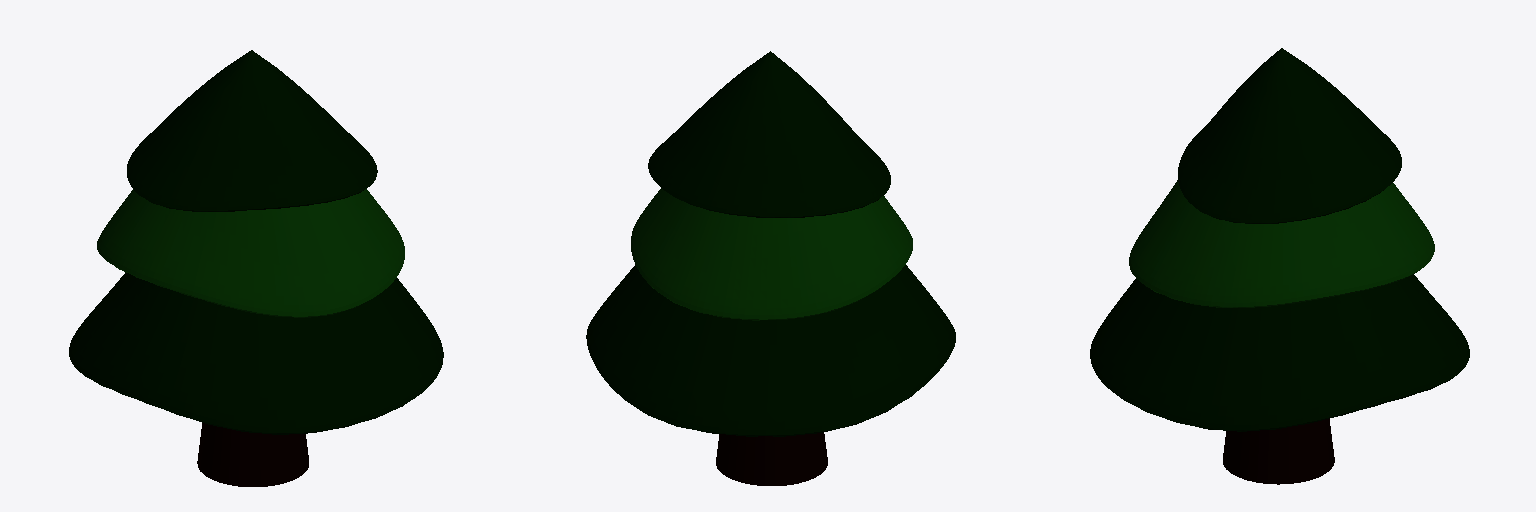
The model's file is LayerTree.obj.
3 renders of one model, left to right at view 1: azimuth 30°, elevation 25°; view 2: azimuth 150°, elevation 25°; view 3: azimuth 270°, elevation 25°, orthographic.
Parts seen in each view (by area): view 1: Cylinder.001_Cylinder.002, Cylinder.002_Cylinder.003, Cylinder.003_Cylinder.004, Cylinder; view 2: Cylinder.001_Cylinder.002, Cylinder.002_Cylinder.003, Cylinder.003_Cylinder.004, Cylinder; view 3: Cylinder.001_Cylinder.002, Cylinder.003_Cylinder.004, Cylinder.002_Cylinder.003, Cylinder.
Boxes of the visible parts, x1=… form: Cylinder.001_Cylinder.002: x1=69, y1=272, x2=443, y2=434; Cylinder.002_Cylinder.003: x1=97, y1=189, x2=404, y2=317; Cylinder.003_Cylinder.004: x1=127, y1=50, x2=377, y2=211; Cylinder: x1=197, y1=423, x2=308, y2=486; Cylinder.001_Cylinder.002: x1=586, y1=265, x2=955, y2=436; Cylinder.002_Cylinder.003: x1=631, y1=188, x2=912, y2=320; Cylinder.003_Cylinder.004: x1=648, y1=51, x2=890, y2=217; Cylinder: x1=716, y1=433, x2=827, y2=485; Cylinder.001_Cylinder.002: x1=1090, y1=274, x2=1469, y2=431; Cylinder.003_Cylinder.004: x1=1178, y1=48, x2=1401, y2=223; Cylinder.002_Cylinder.003: x1=1129, y1=180, x2=1434, y2=307; Cylinder: x1=1223, y1=418, x2=1334, y2=484.
Size of the model in its own units: 2.3 by 2.81 by 2.34.